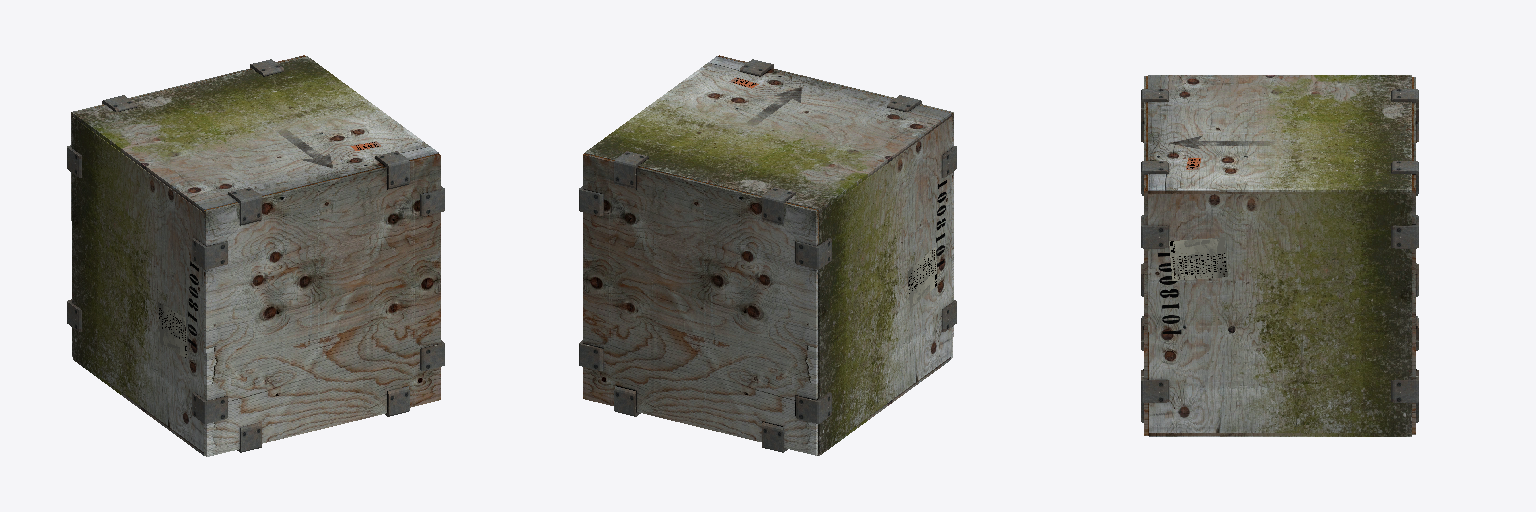
3 views of the same model, side by side, from view 1: azimuth 30°, elevation 25°; view 2: azimuth 150°, elevation 25°; view 3: azimuth 270°, elevation 25° (orthographic).
Parts seen in each view (by area): view 1: body.dmx/wooden_crate_64x64_moss.dmx.mesh_0; view 2: body.dmx/wooden_crate_64x64_moss.dmx.mesh_0; view 3: body.dmx/wooden_crate_64x64_moss.dmx.mesh_0.
Part boxes in pixels (left/top/right/bottom): body.dmx/wooden_crate_64x64_moss.dmx.mesh_0: left=67, top=55, right=444, bottom=456; body.dmx/wooden_crate_64x64_moss.dmx.mesh_0: left=579, top=55, right=956, bottom=455; body.dmx/wooden_crate_64x64_moss.dmx.mesh_0: left=1141, top=75, right=1418, bottom=436.
Size of the model in its own units: 74.1 by 74.1 by 73.99.
1 materials, 1 textured.